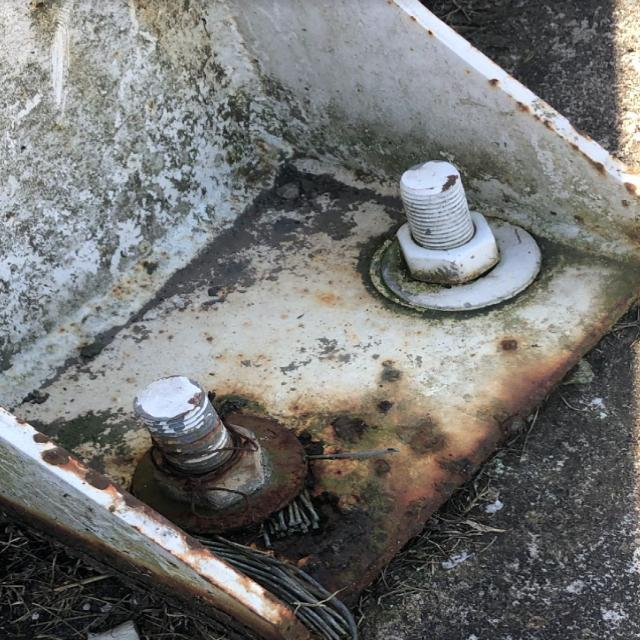Corrosion: (0, 293, 639, 640), (513, 100, 612, 177), (100, 257, 161, 305), (151, 420, 221, 450), (569, 118, 597, 142), (494, 334, 524, 355), (622, 180, 640, 210), (435, 172, 458, 194), (52, 325, 70, 337), (486, 77, 502, 89), (189, 391, 202, 404), (31, 0, 46, 9), (408, 15, 418, 22), (428, 28, 434, 36)
